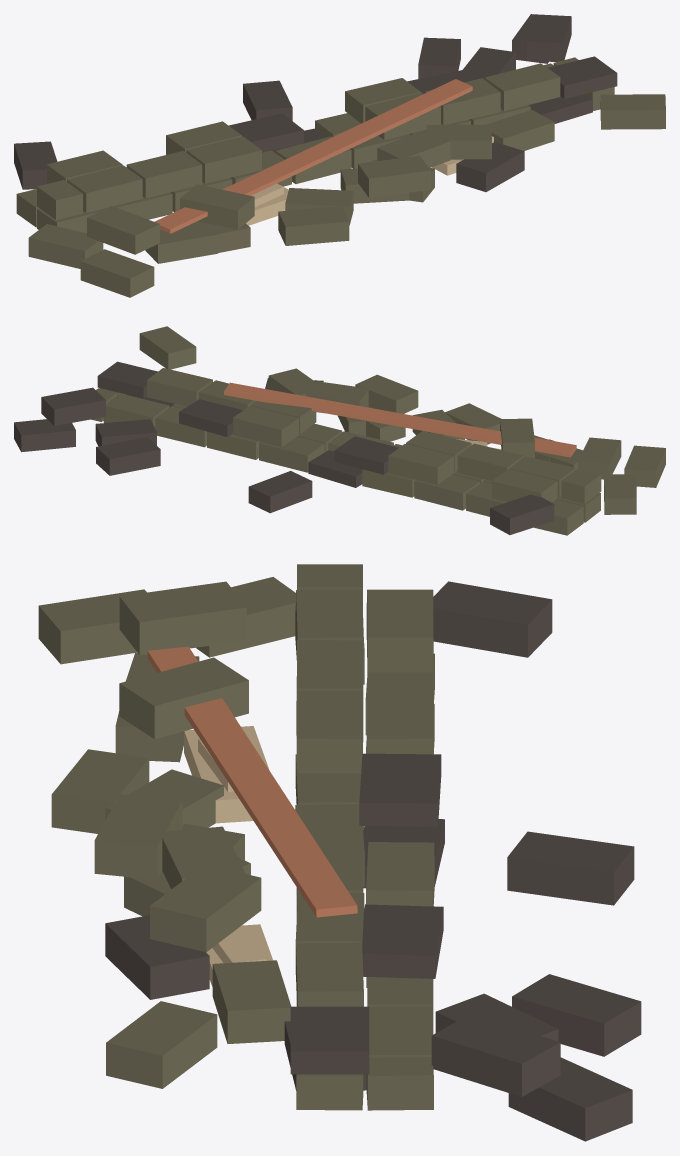
File: SM_MuroSacos_v3_Tablon_e2_MuyDanado_LOD0.fbx
3 renders of one model, top to bottom at view 1: azimuth 30°, elevation 25°; view 2: azimuth 150°, elevation 25°; view 3: azimuth 270°, elevation 25°, orthographic. The views are drawn at different scales.
Visible parts, largest first — view 1: SM_bloques.muro_sacos_estados_v14_LOD0; view 2: SM_bloques.muro_sacos_estados_v14_LOD0; view 3: SM_bloques.muro_sacos_estados_v14_LOD0.
Part boxes in pixels (bbox=[...]): SM_bloques.muro_sacos_estados_v14_LOD0: bbox=[14, 14, 665, 297]; SM_bloques.muro_sacos_estados_v14_LOD0: bbox=[14, 326, 665, 535]; SM_bloques.muro_sacos_estados_v14_LOD0: bbox=[38, 564, 641, 1141].
Bounding box in the file's own units: 8.94 × 0.6799 × 4.29.
